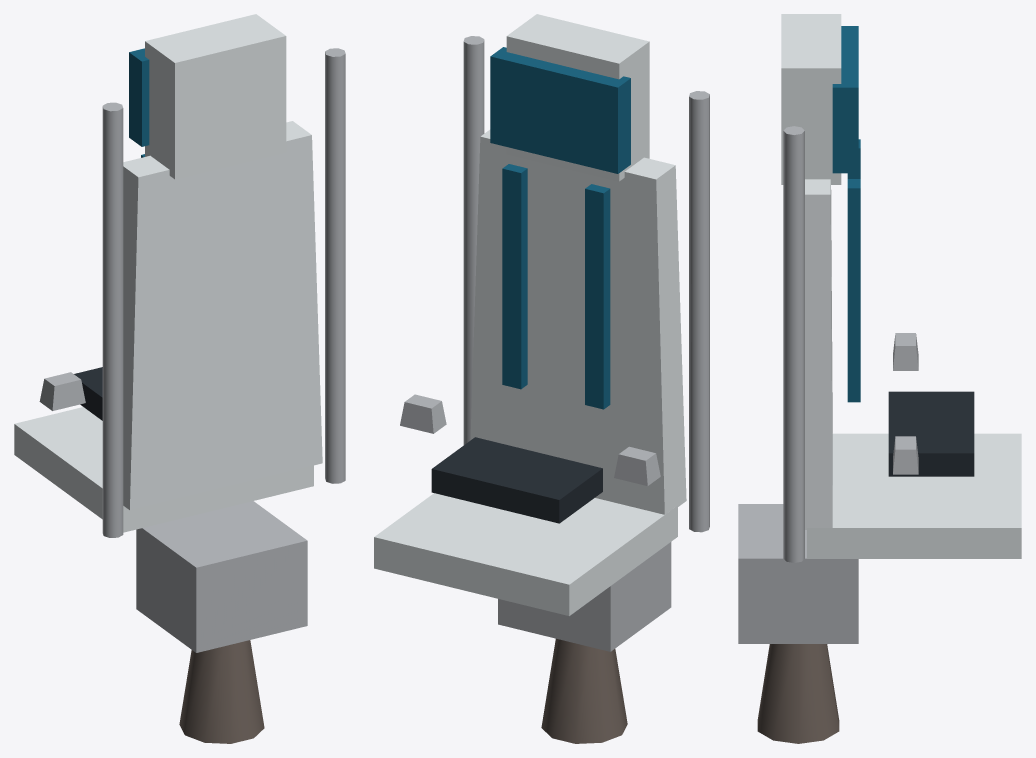
File: les_ejection_seats.glb
3 views of the same model, side by side, from view 1: azimuth 30°, elevation 25°; view 2: azimuth 150°, elevation 25°; view 3: azimuth 270°, elevation 25° (orthographic).
Parts seen in each view (by area): view 1: les_ejection_seats_mesh; view 2: les_ejection_seats_mesh; view 3: les_ejection_seats_mesh.
Part boxes in pixels (x1,y1,x2,y2): les_ejection_seats_mesh: (14, 14, 345, 743); les_ejection_seats_mesh: (374, 14, 709, 743); les_ejection_seats_mesh: (738, 14, 1021, 743).
Bounding box in the file's own units: 0.66 × 1.76 × 0.66.
